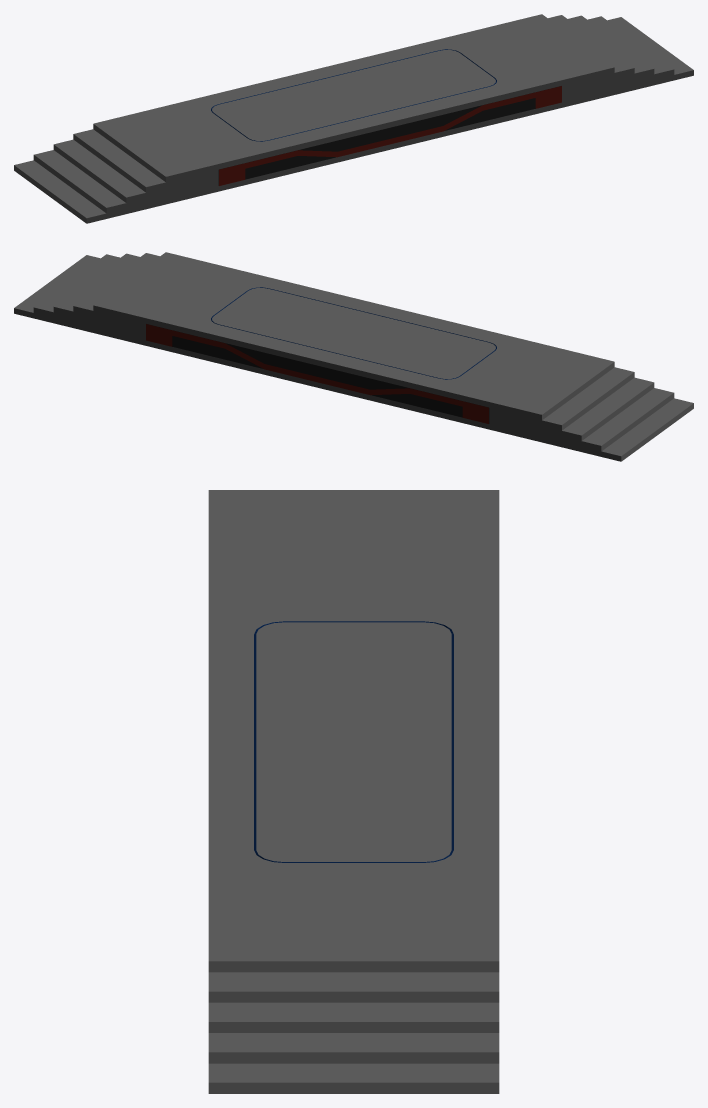
Rendered from W_O_Playground_Stair_001_L2.fbx.
3 views of the same model, one above another, from view 1: azimuth 30°, elevation 25°; view 2: azimuth 150°, elevation 25°; view 3: azimuth 270°, elevation 25° (orthographic). The views are drawn at different scales.
Visible parts, largest first — view 1: W_O_Playground_Stair_001_L2; view 2: W_O_Playground_Stair_001_L2; view 3: W_O_Playground_Stair_001_L2.
Boxes of the visible parts, x1,y1,x2,y2 form: W_O_Playground_Stair_001_L2: [14, 14, 693, 223]; W_O_Playground_Stair_001_L2: [14, 252, 693, 461]; W_O_Playground_Stair_001_L2: [208, 490, 499, 1093].
Bounding box in the file's own units: 23 × 1 × 4.79.
